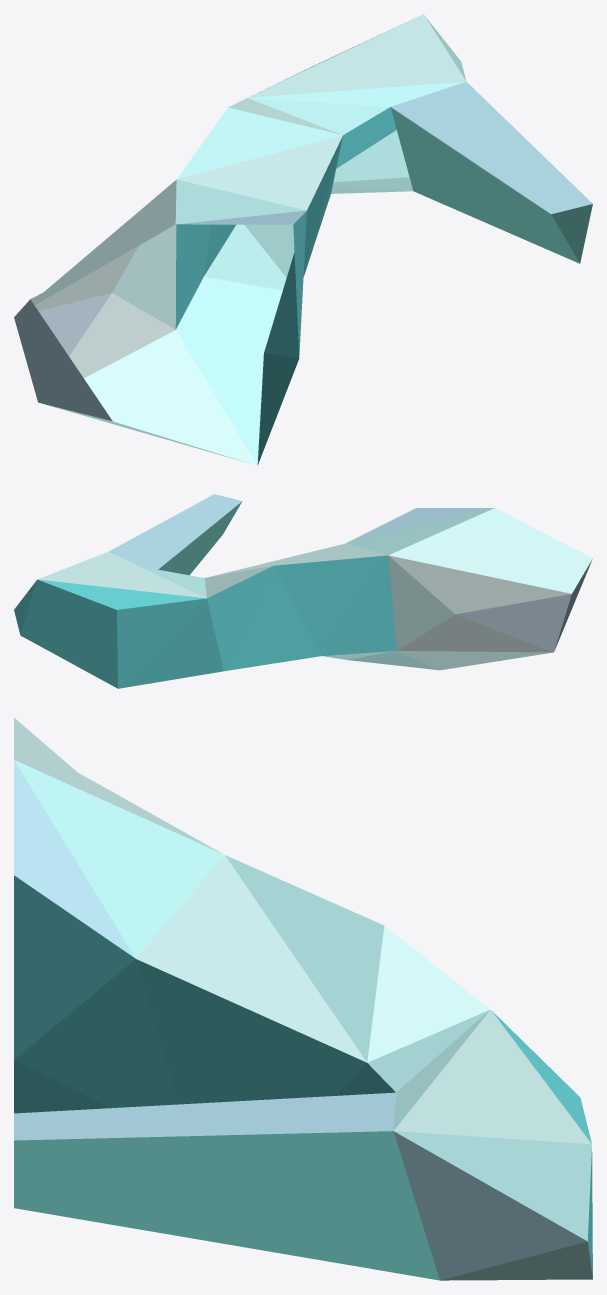
File: winter_hill.fbx
3 views of the same model, one above another, from view 1: azimuth 30°, elevation 25°; view 2: azimuth 150°, elevation 25°; view 3: azimuth 270°, elevation 25° (orthographic). The views are drawn at different scales.
Parts seen in each view (by area): view 1: winter_hill_ice; view 2: winter_hill_ice; view 3: winter_hill_ice.
Boxes of the visible parts, bbox=[...] form: winter_hill_ice: bbox=[14, 14, 592, 465]; winter_hill_ice: bbox=[14, 494, 592, 688]; winter_hill_ice: bbox=[14, 718, 592, 1280].
Size of the model in its own units: 482 by 186 by 280.
